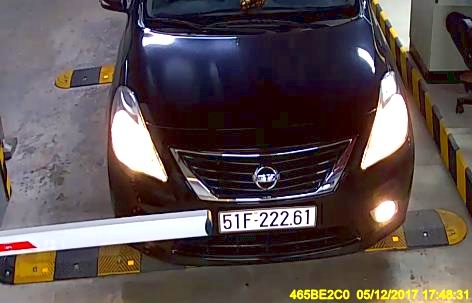plate: (216, 206, 320, 234)
